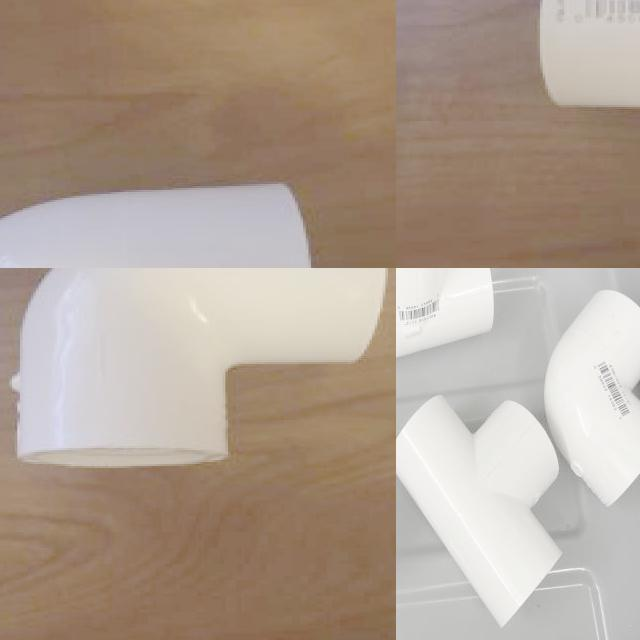L Joint: (11, 268, 388, 471), (0, 183, 313, 268), (548, 290, 640, 509)
T Joint: (396, 397, 563, 628), (396, 268, 494, 360)
